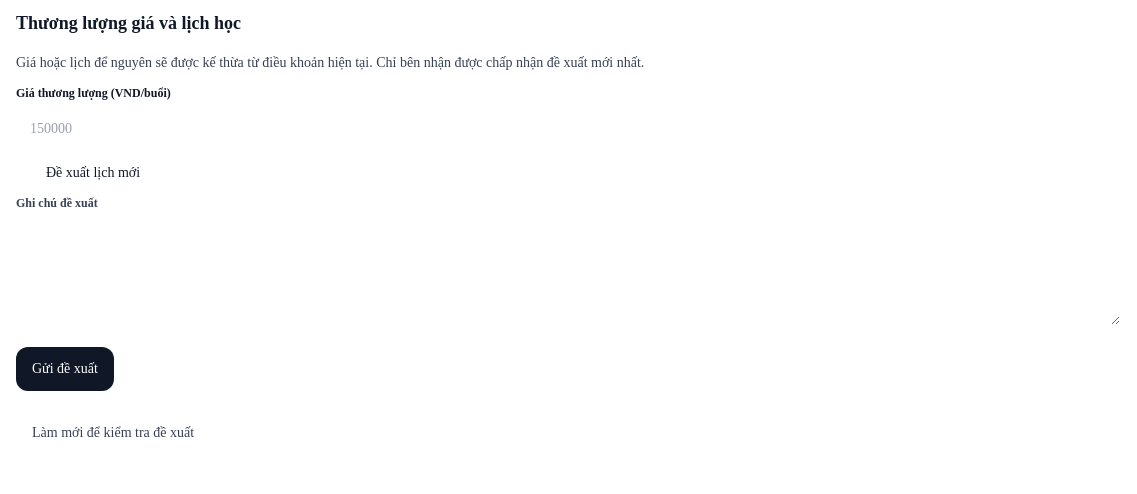
it: negotiation › requires a changed term and omits inherited fields
Click the button "Gửi đề xuất": (65, 369) top-left (16, 347), bottom-right (114, 391)
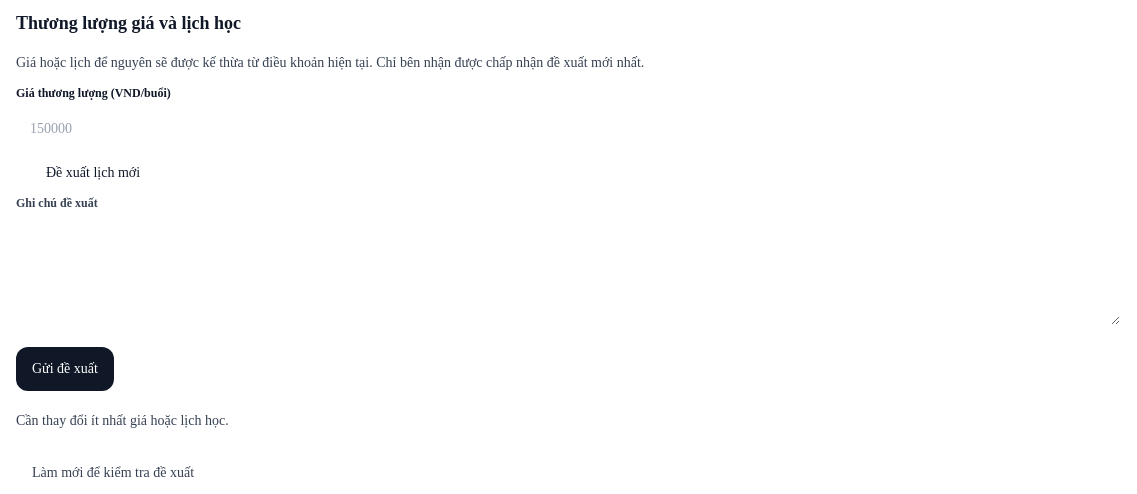
expect the message shows "Cần thay đổi": met, box top-left (16, 413), bottom-right (229, 428)
In the number field labelled "Giá thương lượng (VND/buổi)": (568, 129) top-left (16, 107), bottom-right (1120, 151), type "170000"
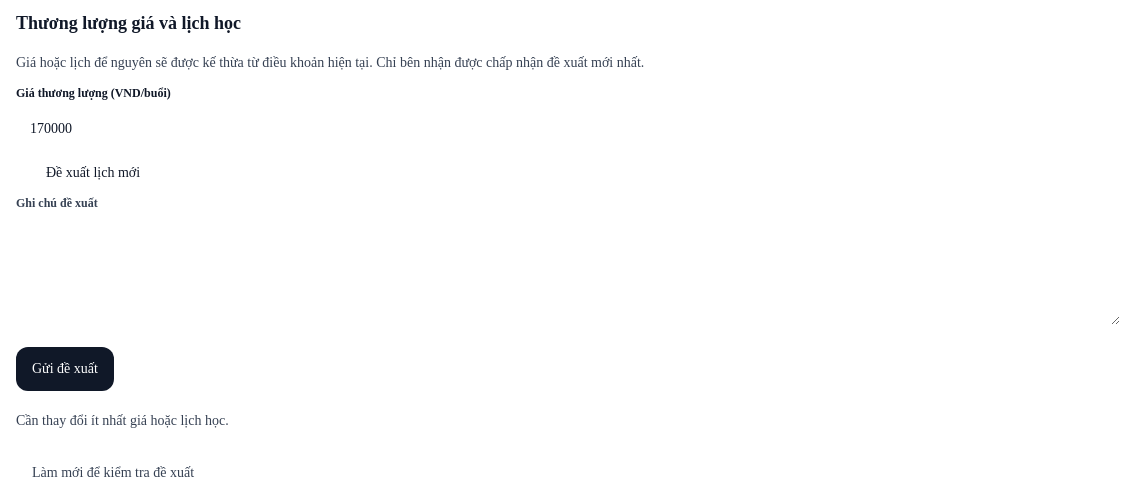
Click the button "Gửi đề xuất": (65, 369) top-left (16, 347), bottom-right (114, 391)
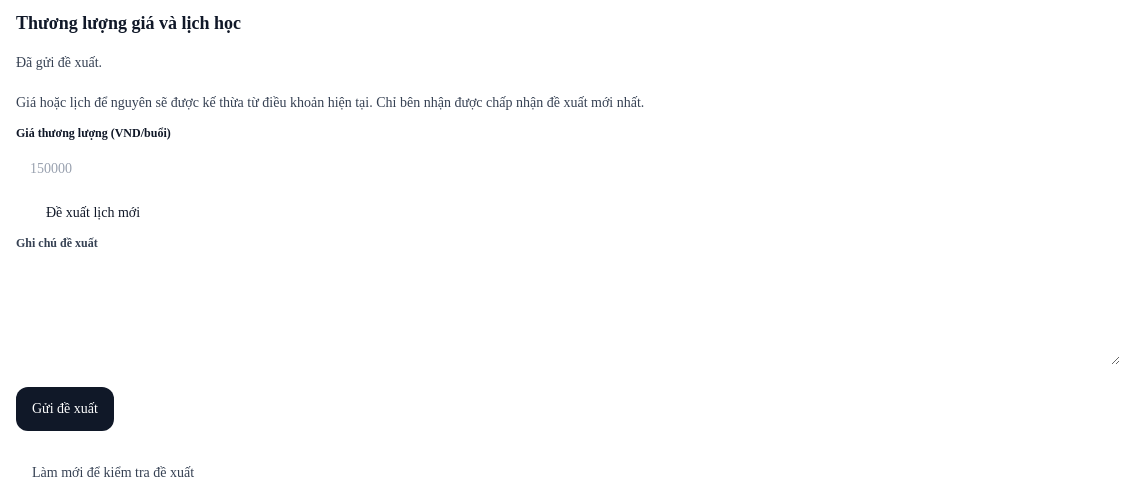
expect the text "Đã gửi đề xuất." is shown: met, box top-left (16, 55), bottom-right (102, 70)
